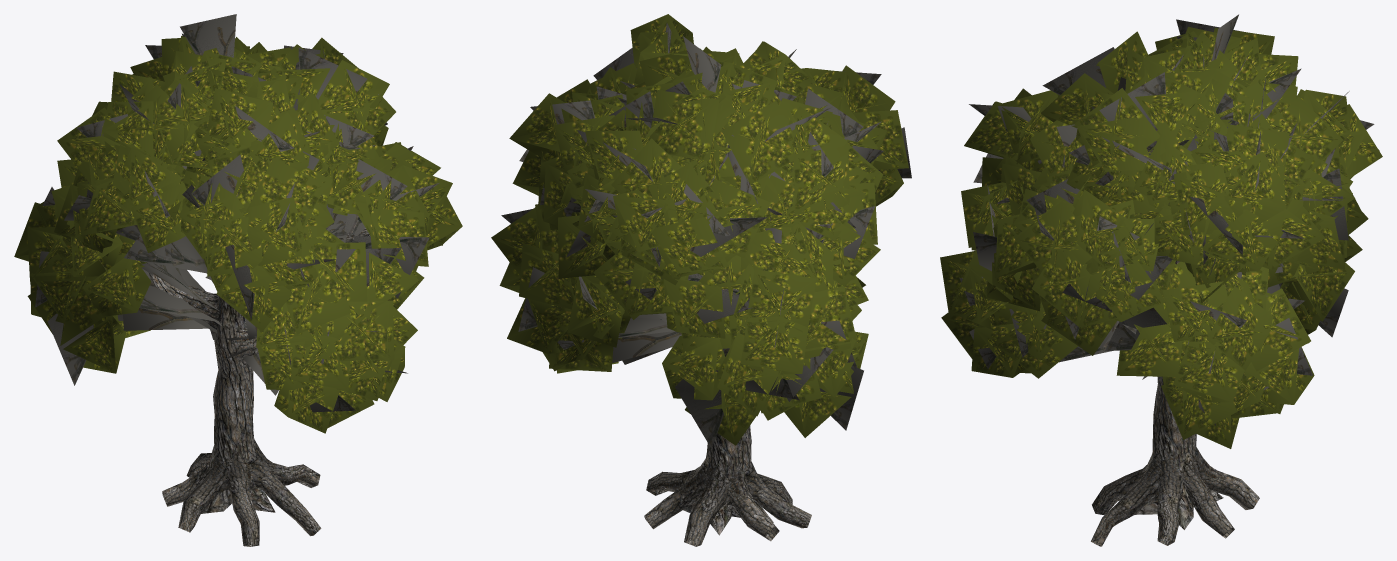
Rendered from oak01.fbx.
3 views of the same model, side by side, from view 1: azimuth 30°, elevation 25°; view 2: azimuth 150°, elevation 25°; view 3: azimuth 270°, elevation 25° (orthographic). The views are drawn at different scales.
Parts seen in each view (by area): view 1: oak01_LOD0; view 2: oak01_LOD0; view 3: oak01_LOD0.
Part boxes in pixels (box(x1,y1,x2,y2)): oak01_LOD0: box(14, 14, 462, 546); oak01_LOD0: box(491, 14, 911, 546); oak01_LOD0: box(940, 14, 1382, 546).
Size of what is drawn, in the model's own units: 672 by 692 by 878.
